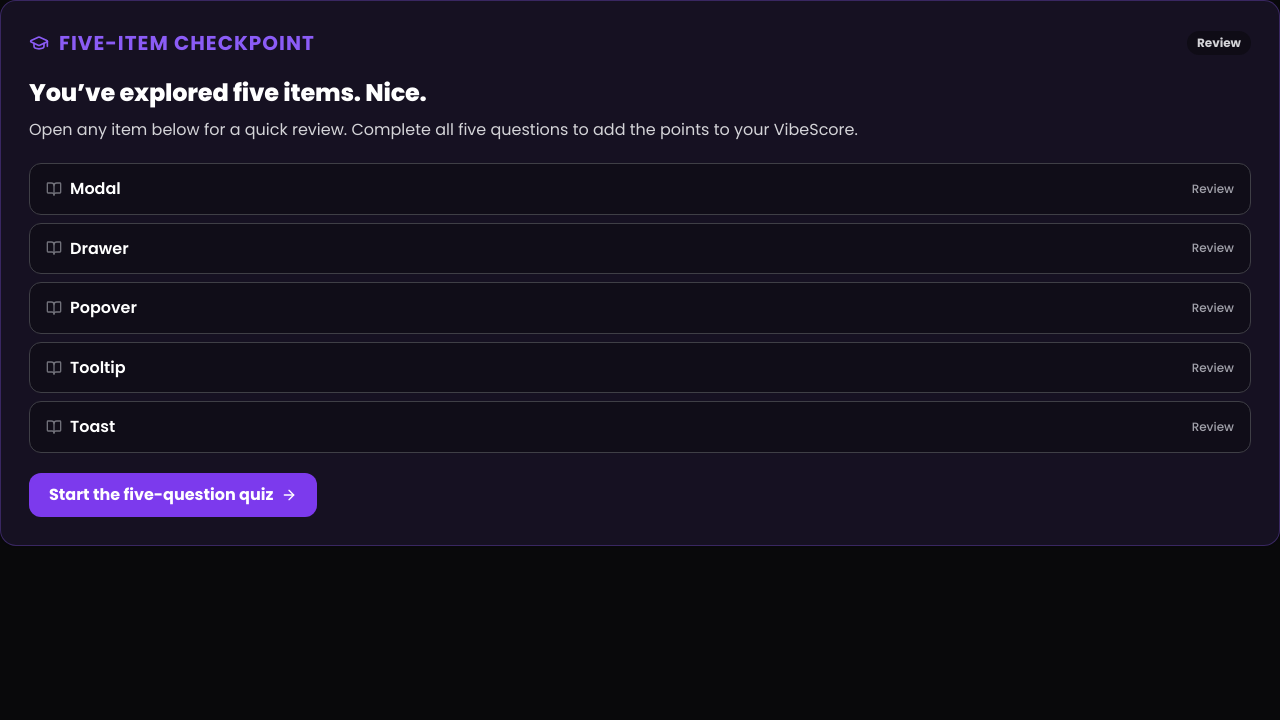
LearningCheckpoint › lets the learner return to review and resume the current question
Click the button "Start the five-question quiz" at [173, 495], box [29,473,317,517]
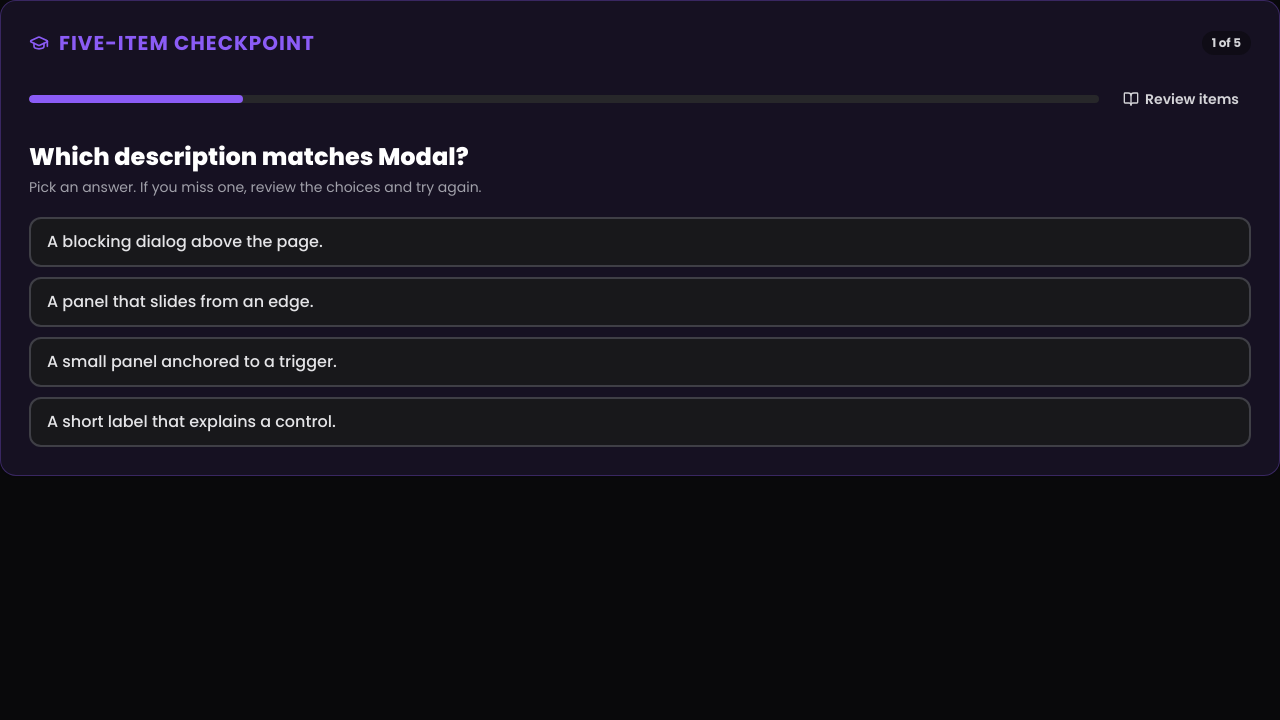
Now the text "Which description matches Modal?" is shown, box [29,140,469,173]
Click the button "Review items" at [1181, 99], box [1111,77,1251,121]
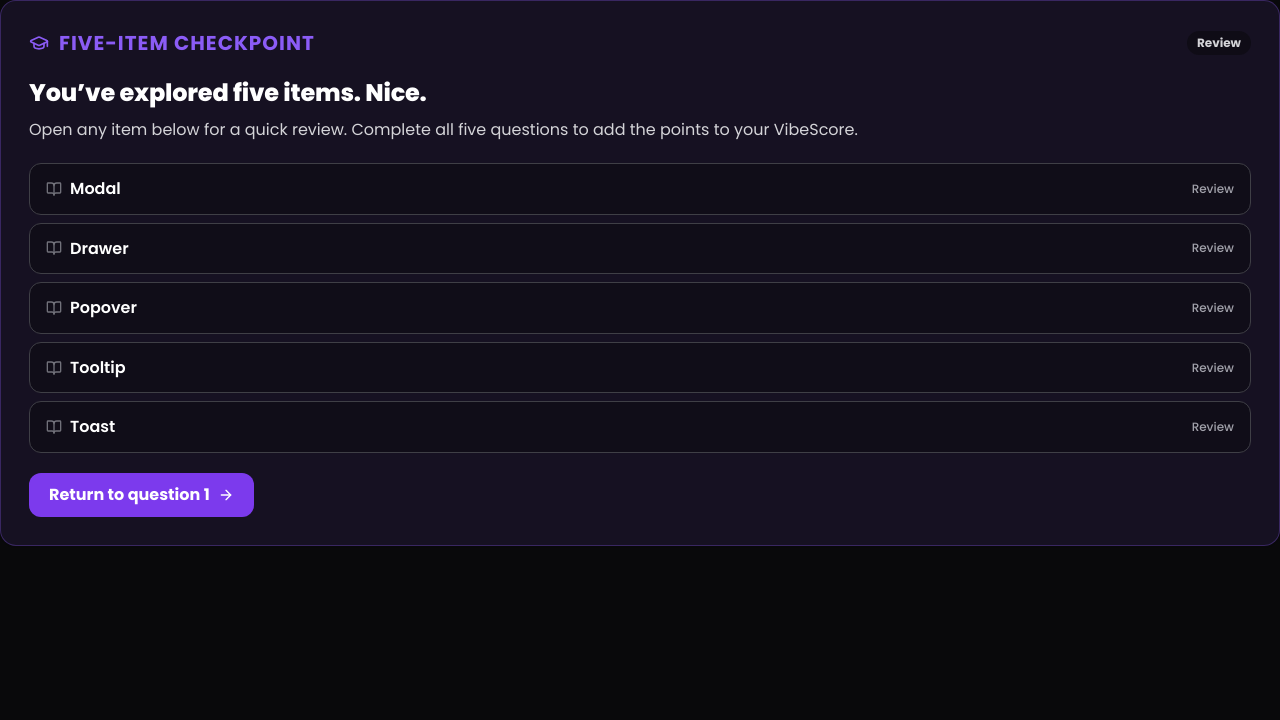
Now the button "Return to question 1" is shown
Click the button "Return to question 1" at [141, 495], box [29,473,254,517]
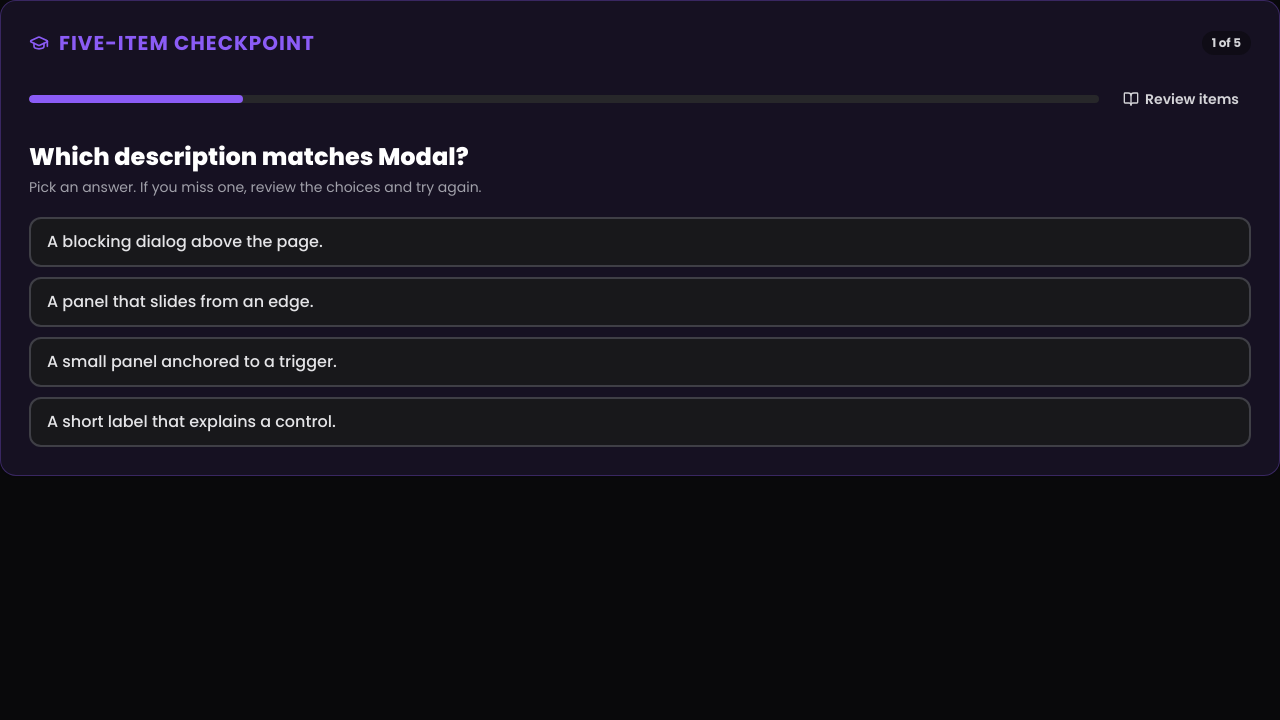
Now the text "Which description matches Modal?" is shown, box [29,140,469,173]
